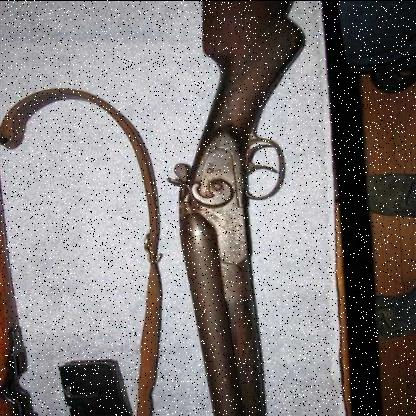rifle: (131, 1, 315, 416)
